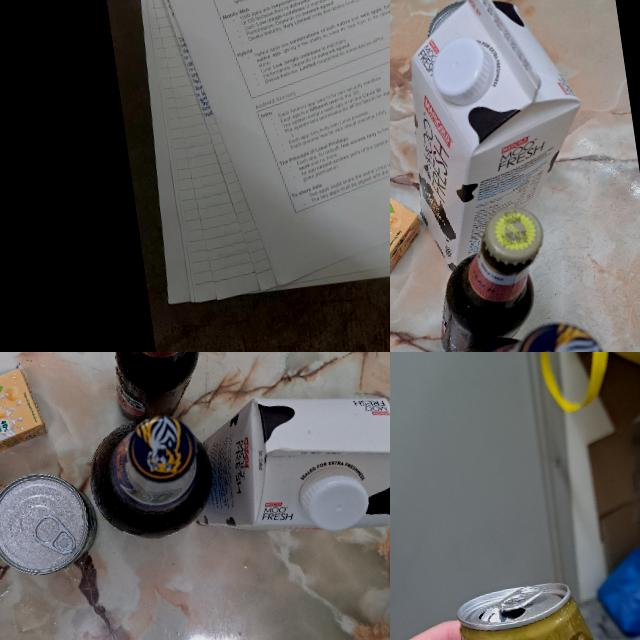aba de lata: (32, 512, 78, 558), (493, 582, 547, 613)
caixinha: (390, 0, 603, 275), (183, 378, 390, 553), (0, 364, 51, 487), (390, 126, 427, 290)
garrafa de vidro: (424, 204, 560, 352), (81, 408, 221, 546), (102, 352, 210, 424), (422, 316, 624, 352)
lata: (0, 466, 103, 581), (442, 576, 619, 640)
papel: (113, 0, 390, 307)
tampa plástica: (427, 34, 499, 109), (300, 470, 373, 534)
